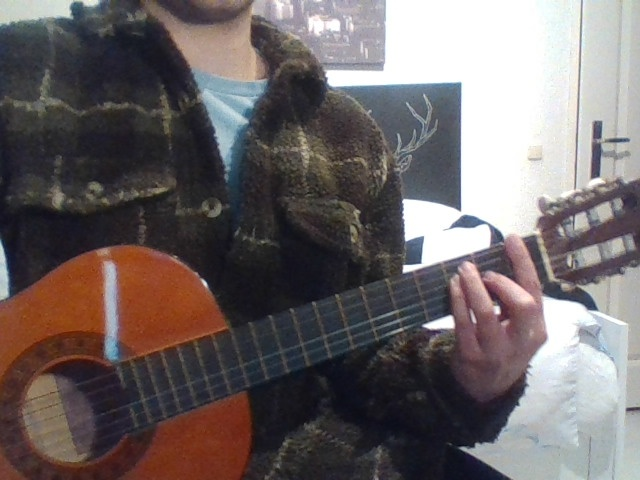F: (429, 225, 593, 421)
